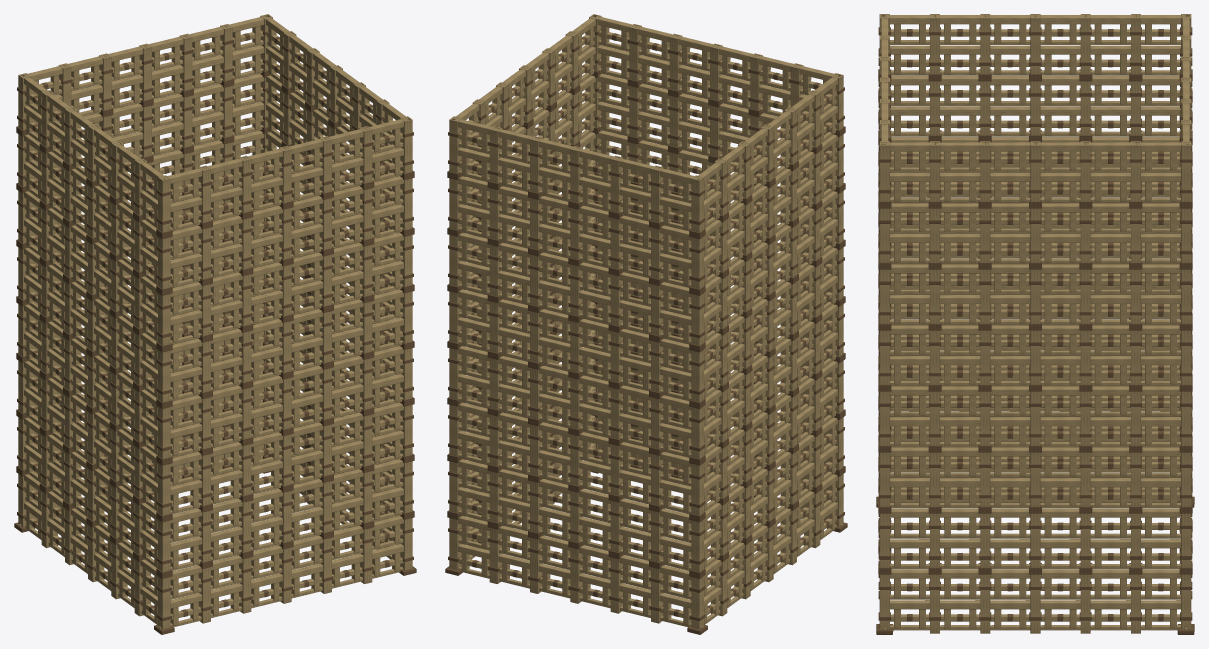
3 renders of one model, left to right at view 1: azimuth 30°, elevation 25°; view 2: azimuth 150°, elevation 25°; view 3: azimuth 270°, elevation 25°, orthographic. The views are drawn at different scales.
Visible parts, largest first — view 1: Tier 7 side 0 post 0, Tier 0 side 0 post 0, Tier 5 side 0 post 0, Tier 2 side 0 post 0, Tier 4 side 0 post 0, Tier 6 side 0 post 0, Tier 3 side 0 post 0, Tier 1 side 0 post 0, Tier 7 side 0 post 2, Tier 7 side 0 post 5, Tier 7 side 2 post 2, Tier 0 side 0 post 2 (+1 smaller); view 2: Tier 7 side 3 post 0, Tier 0 side 3 post 0, Tier 2 side 3 post 0, Tier 4 side 3 post 0, Tier 5 side 3 post 0, Tier 3 side 3 post 0, Tier 6 side 3 post 0, Tier 1 side 3 post 0, Tier 7 side 2 post 1, Tier 7 side 0 post 4, Tier 7 side 2 post 4, Tier 0 side 2 post 4 (+1 smaller); view 3: Tier 7 side 1 post 0, Tier 7 side 1 post 2, Tier 7 side 1 post 3, Tier 7 side 1 post 4, Tier 7 side 2 post 0, Tier 0 side 1 post 3, Tier 0 side 1 post 2, Tier 0 side 1 post 4, Tier 7 side 3 post 2, Tier 7 side 3 post 3, Tier 7 side 3 post 4, Tier 7 side 1 post 1 (+54 smaller).
Part boxes in pixels (x1=…): Tier 7 side 0 post 0: x1=158, y1=175, x2=170, y2=232; Tier 0 side 0 post 0: x1=158, y1=576, x2=170, y2=629; Tier 5 side 0 post 0: x1=158, y1=293, x2=170, y2=345; Tier 2 side 0 post 0: x1=158, y1=463, x2=170, y2=515; Tier 4 side 0 post 0: x1=158, y1=350, x2=170, y2=402; Tier 6 side 0 post 0: x1=158, y1=236, x2=170, y2=289; Tier 3 side 0 post 0: x1=158, y1=406, x2=170, y2=458; Tier 1 side 0 post 0: x1=158, y1=519, x2=170, y2=572; Tier 7 side 0 post 2: x1=238, y1=155, x2=251, y2=212; Tier 7 side 0 post 5: x1=359, y1=126, x2=372, y2=183; Tier 7 side 2 post 2: x1=179, y1=33, x2=192, y2=90; Tier 0 side 0 post 2: x1=239, y1=557, x2=251, y2=613; Tier 7 side 3 post 0: x1=691, y1=175, x2=703, y2=232; Tier 0 side 3 post 0: x1=691, y1=576, x2=703, y2=629; Tier 2 side 3 post 0: x1=691, y1=463, x2=703, y2=515; Tier 4 side 3 post 0: x1=691, y1=350, x2=703, y2=402; Tier 5 side 3 post 0: x1=691, y1=293, x2=703, y2=345; Tier 3 side 3 post 0: x1=691, y1=406, x2=703, y2=458; Tier 6 side 3 post 0: x1=691, y1=236, x2=703, y2=289; Tier 1 side 3 post 0: x1=691, y1=519, x2=703, y2=572; Tier 7 side 2 post 1: x1=489, y1=126, x2=502, y2=183; Tier 7 side 0 post 4: x1=669, y1=33, x2=682, y2=90; Tier 7 side 2 post 4: x1=610, y1=155, x2=623, y2=212; Tier 0 side 2 post 4: x1=610, y1=557, x2=622, y2=613; Tier 7 side 1 post 0: x1=879, y1=141, x2=889, y2=201; Tier 7 side 1 post 2: x1=980, y1=141, x2=990, y2=201; Tier 7 side 1 post 3: x1=1030, y1=141, x2=1040, y2=201; Tier 7 side 1 post 4: x1=1080, y1=141, x2=1090, y2=201; Tier 7 side 2 post 0: x1=1181, y1=141, x2=1191, y2=201; Tier 0 side 1 post 3: x1=1030, y1=574, x2=1040, y2=633; Tier 0 side 1 post 2: x1=980, y1=574, x2=990, y2=633; Tier 0 side 1 post 4: x1=1080, y1=574, x2=1090, y2=633; Tier 7 side 3 post 2: x1=1080, y1=14, x2=1090, y2=74; Tier 7 side 3 post 3: x1=1030, y1=14, x2=1040, y2=74; Tier 7 side 3 post 4: x1=980, y1=14, x2=990, y2=74; Tier 7 side 1 post 1: x1=930, y1=141, x2=939, y2=201.
Size of the model in its own units: 2.85 by 4.83 by 2.85.
2 materials, 2 textured.
